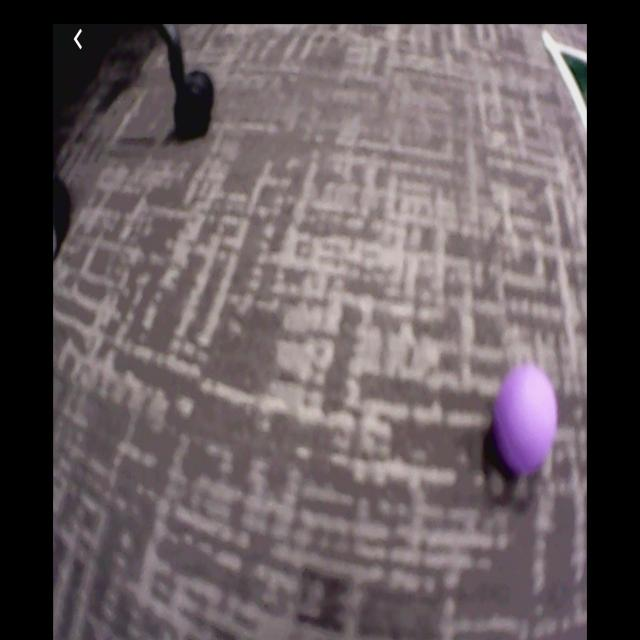ball: (492, 362, 560, 479)
